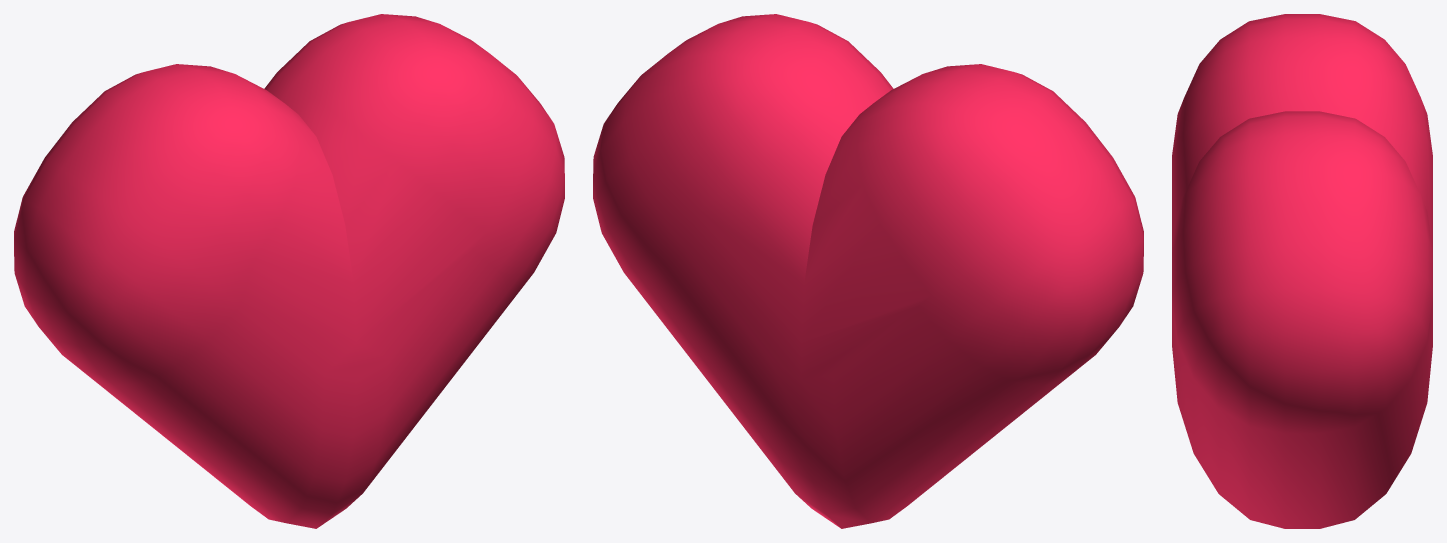
File: room heart.glb
3 renders of one model, left to right at view 1: azimuth 30°, elevation 25°; view 2: azimuth 150°, elevation 25°; view 3: azimuth 270°, elevation 25°, orthographic. The views are drawn at different scales.
Parts seen in each view (by area): view 1: heart_teamRed; view 2: heart_teamRed; view 3: heart_teamRed.
Part boxes in pixels (<box>): heart_teamRed: <box>14,14,564,528</box>; heart_teamRed: <box>593,14,1143,528</box>; heart_teamRed: <box>1172,14,1432,528</box>.
Size of the model in its own units: 1.08 by 0.939 by 0.4932.
